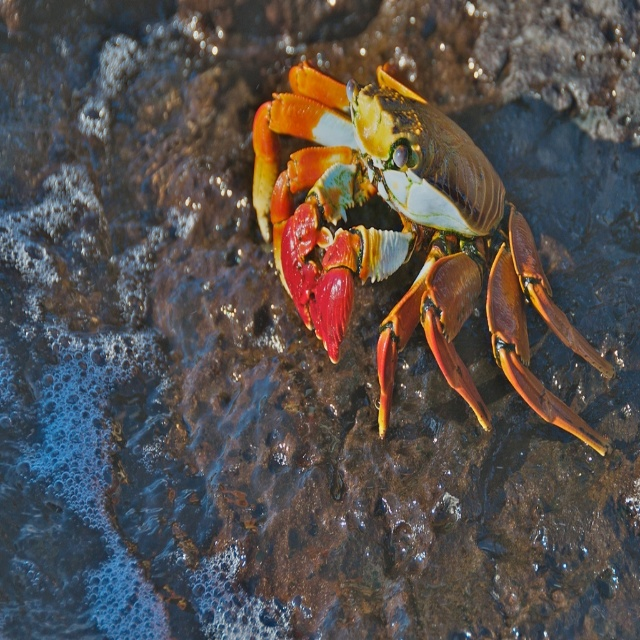Crab: (244, 55, 615, 459)
